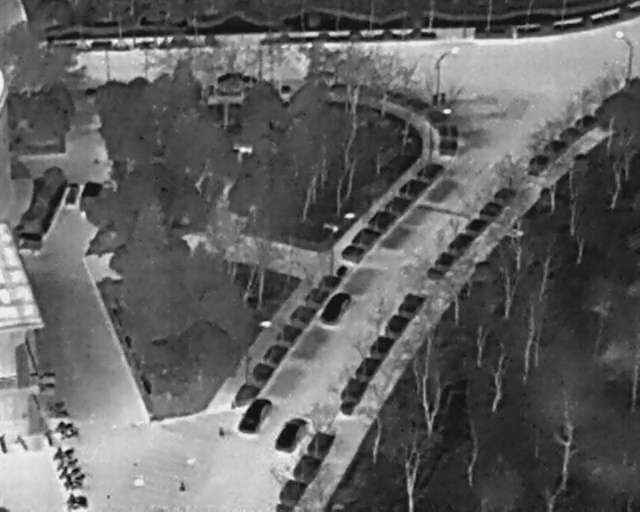Bicycle: (60, 470, 91, 494), (52, 453, 82, 475), (49, 442, 77, 463), (63, 490, 91, 511), (12, 431, 34, 457), (55, 463, 83, 481), (45, 396, 69, 412), (42, 429, 58, 450), (36, 369, 57, 380), (49, 410, 70, 420), (55, 420, 76, 430), (60, 430, 82, 438), (0, 433, 8, 454), (38, 382, 56, 391)
Car: (232, 388, 279, 443), (270, 410, 313, 461), (315, 282, 357, 332)
OtherVehicle: (75, 176, 108, 218)
